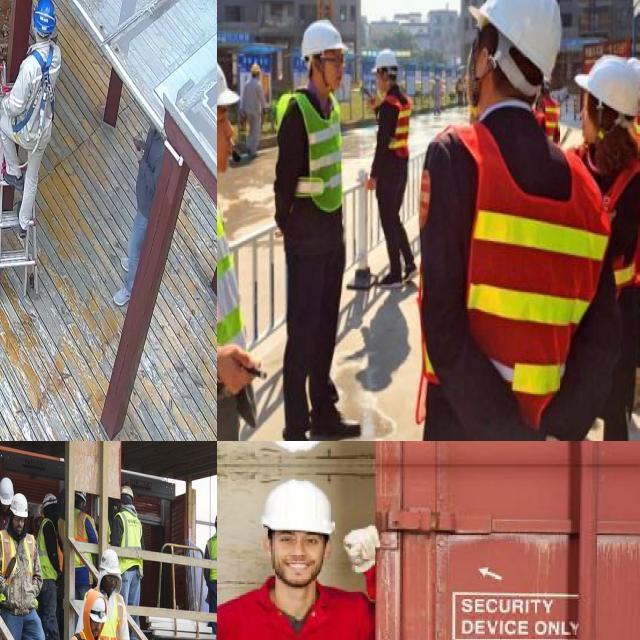Harness: (23, 49, 56, 140)
No_Ear-Protection: (263, 537, 272, 555), (325, 539, 331, 557)
No_Glasses: (274, 531, 325, 546)
face_nomask: (273, 544, 324, 587), (217, 106, 246, 179), (314, 48, 344, 98), (12, 513, 27, 537)
hand_glove: (344, 526, 380, 573)
hand_noglove: (217, 338, 267, 403), (363, 168, 379, 195)
head_helmet: (475, 0, 557, 77), (575, 52, 640, 113), (263, 479, 330, 535), (217, 39, 243, 120), (296, 13, 346, 53), (84, 589, 109, 621), (372, 43, 400, 68), (101, 548, 122, 578), (14, 493, 31, 518), (0, 476, 13, 506), (39, 494, 58, 508), (634, 57, 640, 95), (250, 62, 264, 74)
person: (420, 0, 608, 441), (274, 12, 362, 441), (572, 58, 640, 404), (217, 31, 255, 441), (366, 41, 420, 282), (114, 472, 151, 640), (10, 493, 32, 640), (40, 494, 60, 632), (100, 551, 129, 640), (72, 492, 92, 590), (75, 591, 108, 640), (205, 507, 217, 640), (0, 469, 13, 537), (540, 98, 562, 138)
shoes: (308, 393, 363, 441)
vest: (421, 122, 601, 419), (277, 91, 347, 227), (591, 142, 640, 281), (375, 91, 416, 157), (1, 533, 34, 606), (114, 510, 146, 568), (68, 516, 99, 562), (36, 518, 60, 576), (104, 595, 127, 640), (545, 97, 564, 130), (207, 534, 217, 580)
